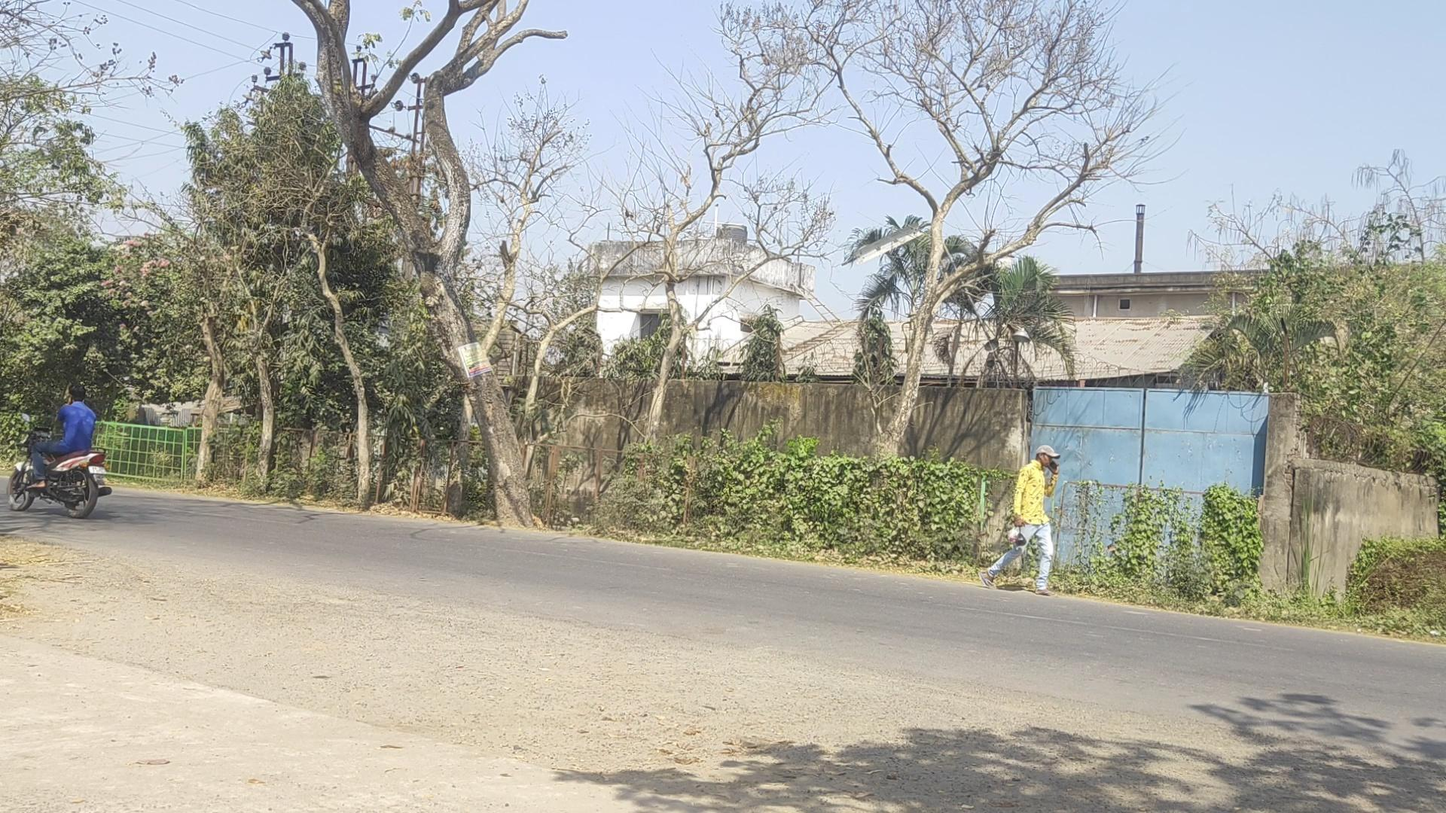bike: (6, 383, 112, 519)
